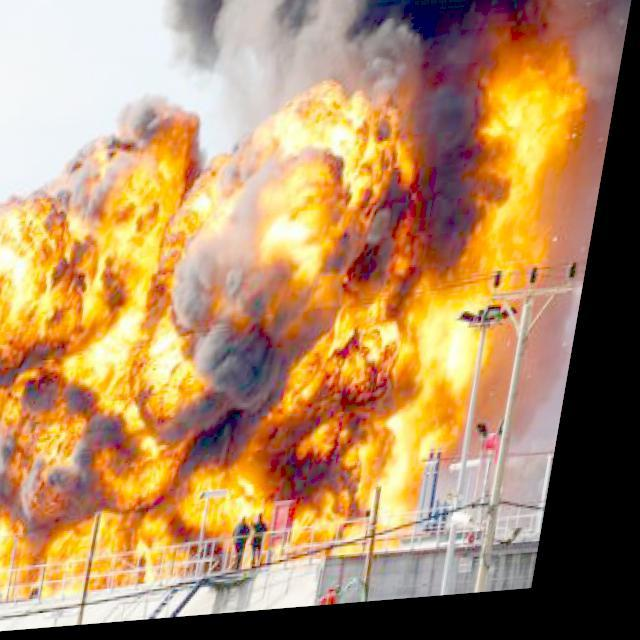Fire: (0, 26, 608, 611)
